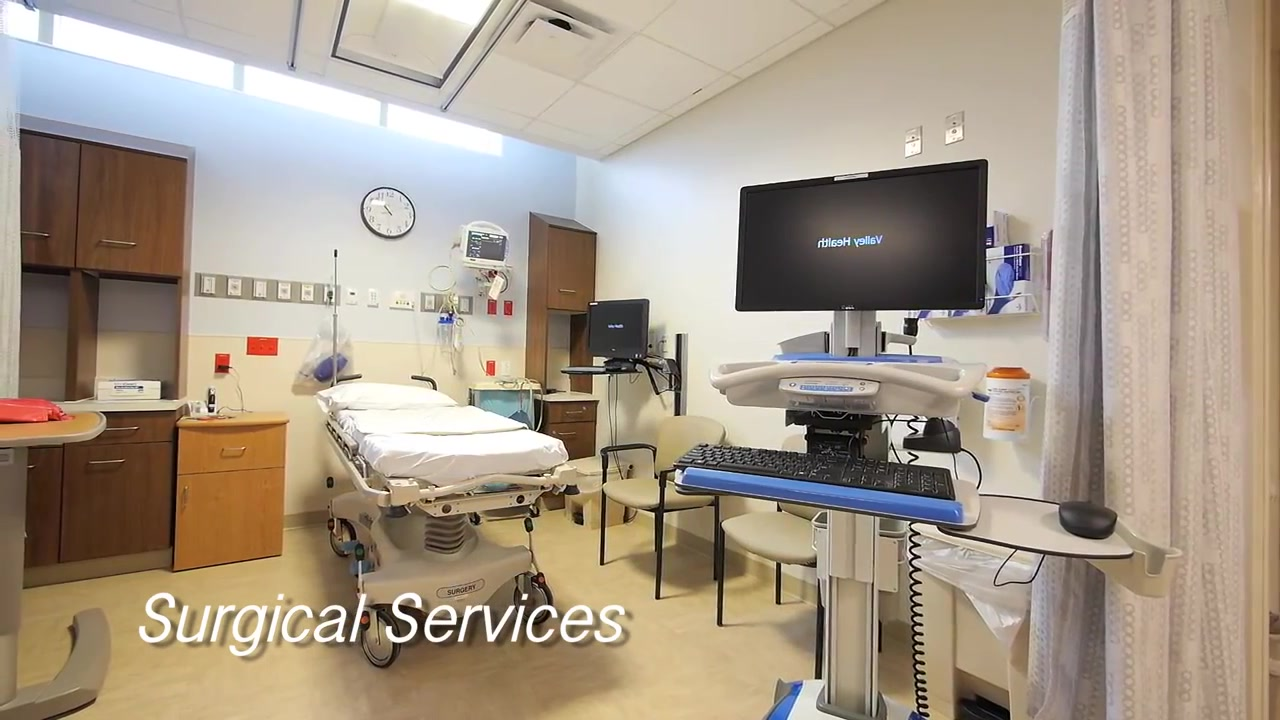bedside_monitor: (460, 227, 512, 273)
bedside_table: (172, 413, 285, 573), (533, 389, 596, 455)
cabinet: (21, 126, 190, 282), (528, 209, 595, 313)
chair: (717, 433, 824, 677), (600, 415, 719, 581)
computer: (731, 163, 989, 306), (585, 298, 653, 356)
counter: (17, 396, 178, 584)
curtain: (1025, 1, 1280, 720)
dispenser: (920, 242, 1042, 319)
exam_table: (311, 372, 571, 665)
handle: (100, 239, 149, 250), (21, 226, 56, 236), (220, 443, 248, 455), (100, 425, 142, 433), (86, 458, 127, 466), (180, 485, 190, 509), (560, 289, 578, 294), (565, 409, 583, 414), (557, 432, 576, 436)
iv_pole: (325, 250, 341, 384)
keyboard: (675, 442, 955, 502)
mouse: (1055, 491, 1119, 537), (620, 365, 634, 370)
overbed_table: (1, 410, 114, 720)
telephone: (187, 386, 221, 417)
waste_bin: (909, 529, 1033, 719), (573, 445, 626, 531), (467, 380, 544, 433)
